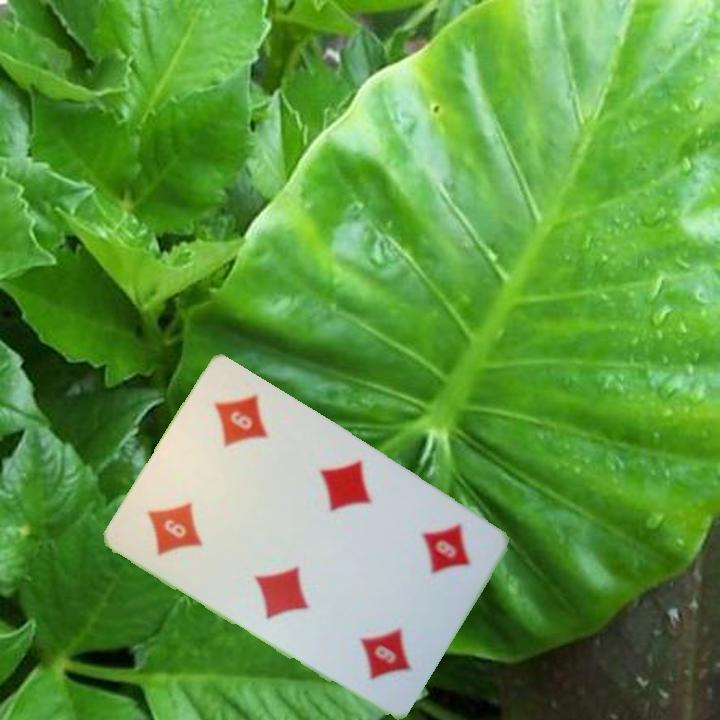d_6.png: (371, 495, 494, 623), (120, 452, 243, 580)
